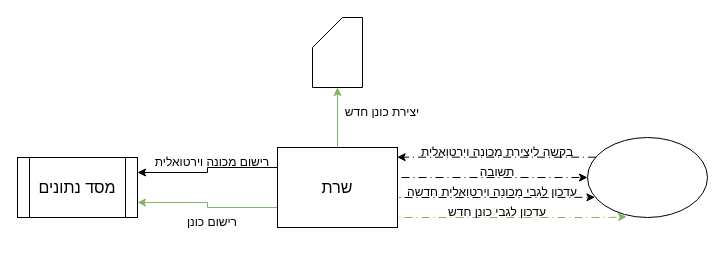
Image size: 725x255. Some labels were removed from this diagram. The box of each missing label's shape, as (x1, y1, x2, y2) in pixels:
כונן: (312, 16, 362, 88)
לקוח: (586, 136, 708, 218)
